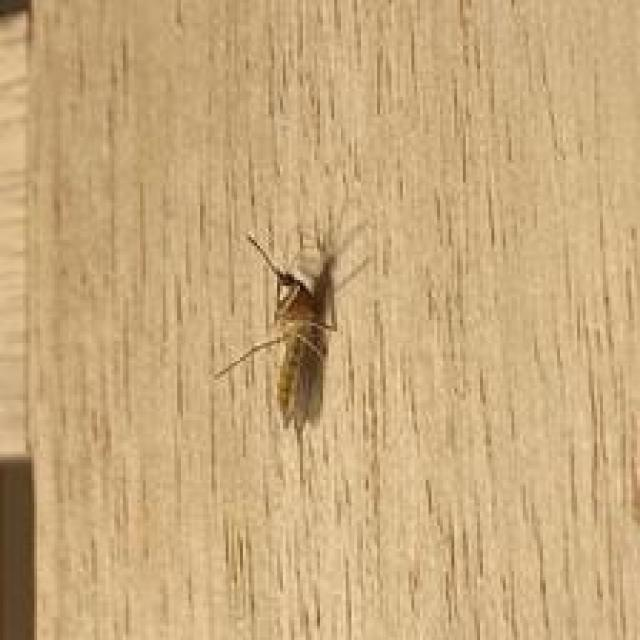Culex: (213, 205, 376, 466)
